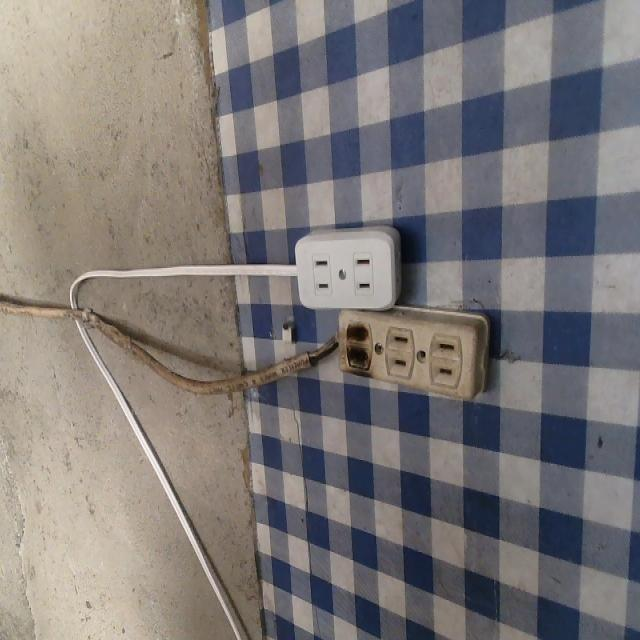-: (338, 314, 380, 382)
